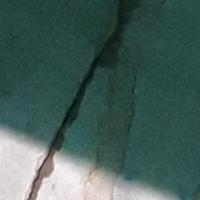crack: (21, 0, 137, 199)
